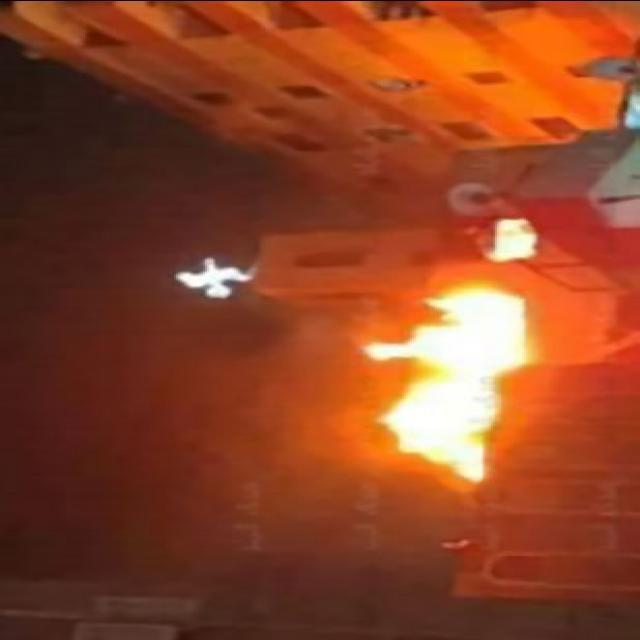Fire: (366, 285, 524, 478)
